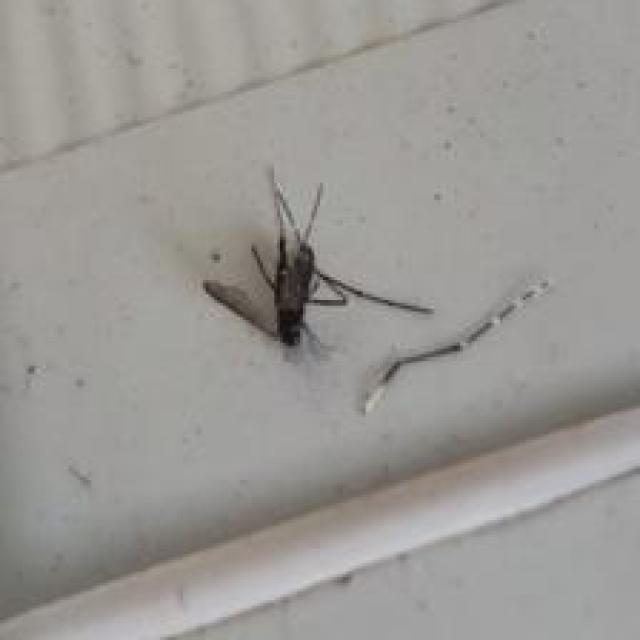Aedes albopictus: (361, 273, 553, 416)
